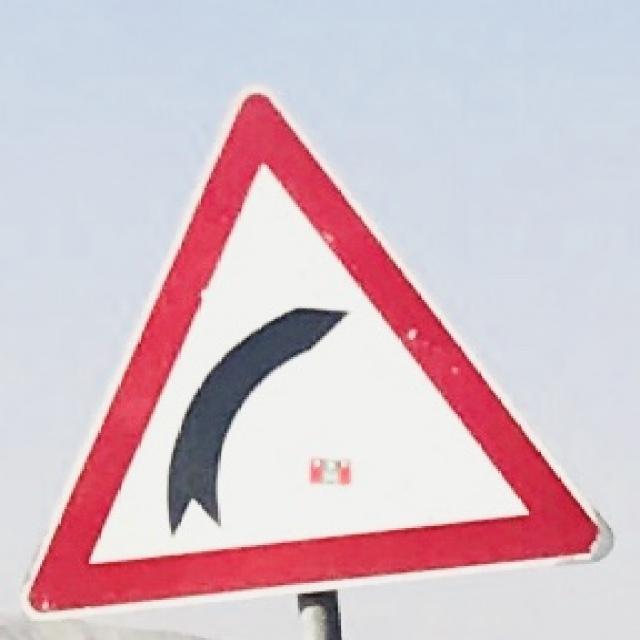right hand curve: (28, 90, 611, 612)
